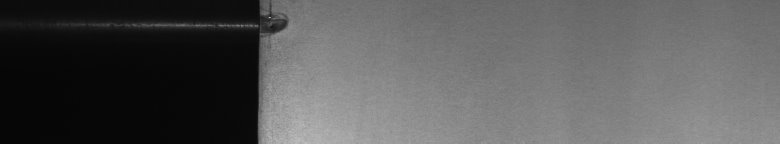hb: (268, 4, 295, 50)
